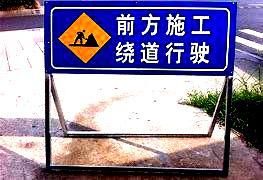sign: (47, 3, 231, 72)
